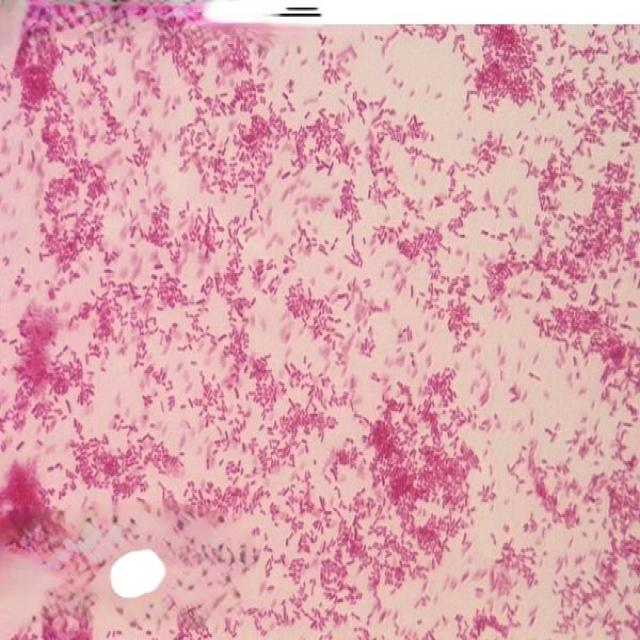Rod_bacteria: (0, 5, 639, 640)
